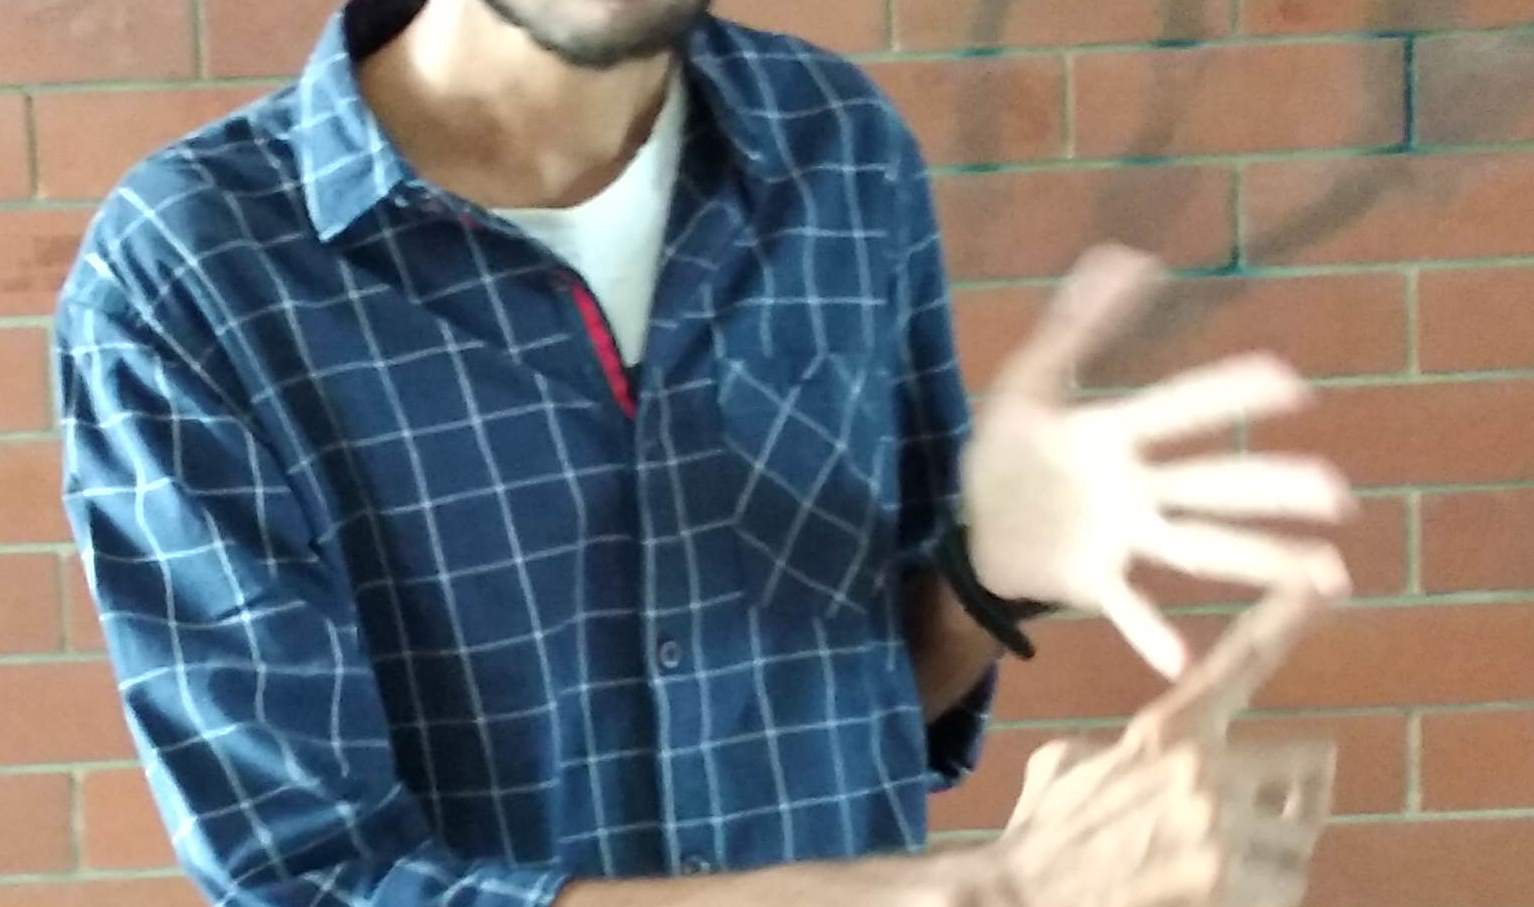e: (970, 307, 1370, 907)
